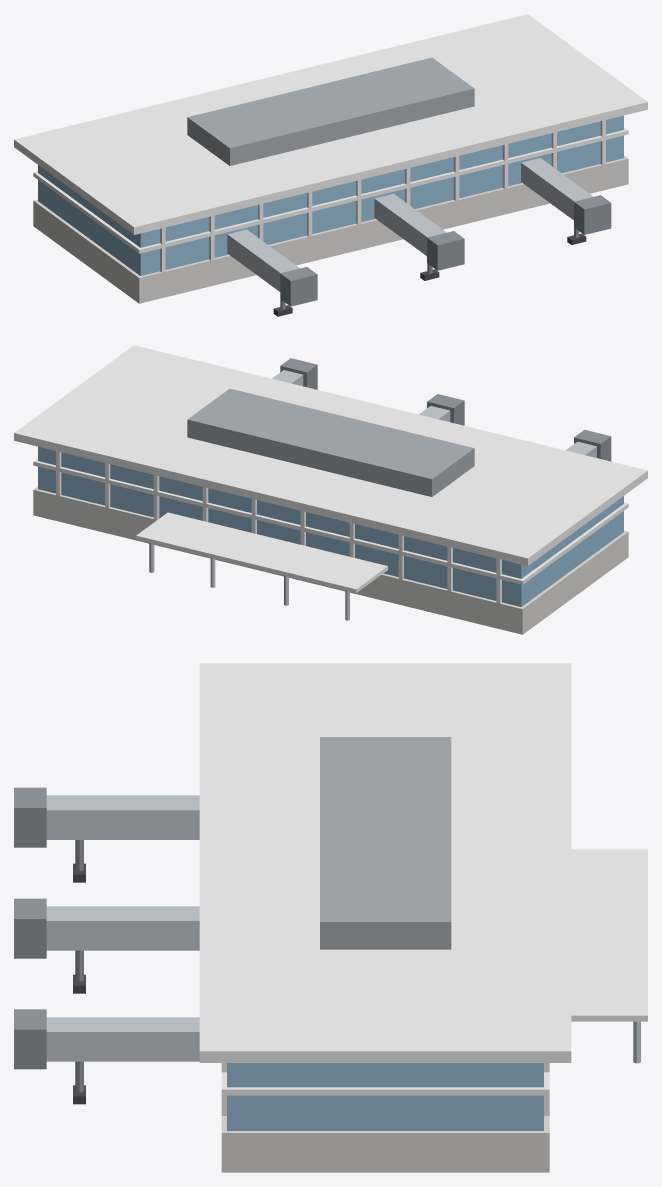
The model's file is terminal-ZITfnF5i.glb.
3 views of the same model, one above another, from view 1: azimuth 30°, elevation 25°; view 2: azimuth 150°, elevation 25°; view 3: azimuth 270°, elevation 25° (orthographic). The views are drawn at different scales.
Parts seen in each view (by area): view 1: body; view 2: body; view 3: body.
Boxes of the visible parts, left/top/right/bottom form: body: left=14, top=14, right=647, bottom=316; body: left=14, top=345, right=647, bottom=634; body: left=14, top=663, right=647, bottom=1172.
Size of the model in its own units: 84 by 16 by 58.
